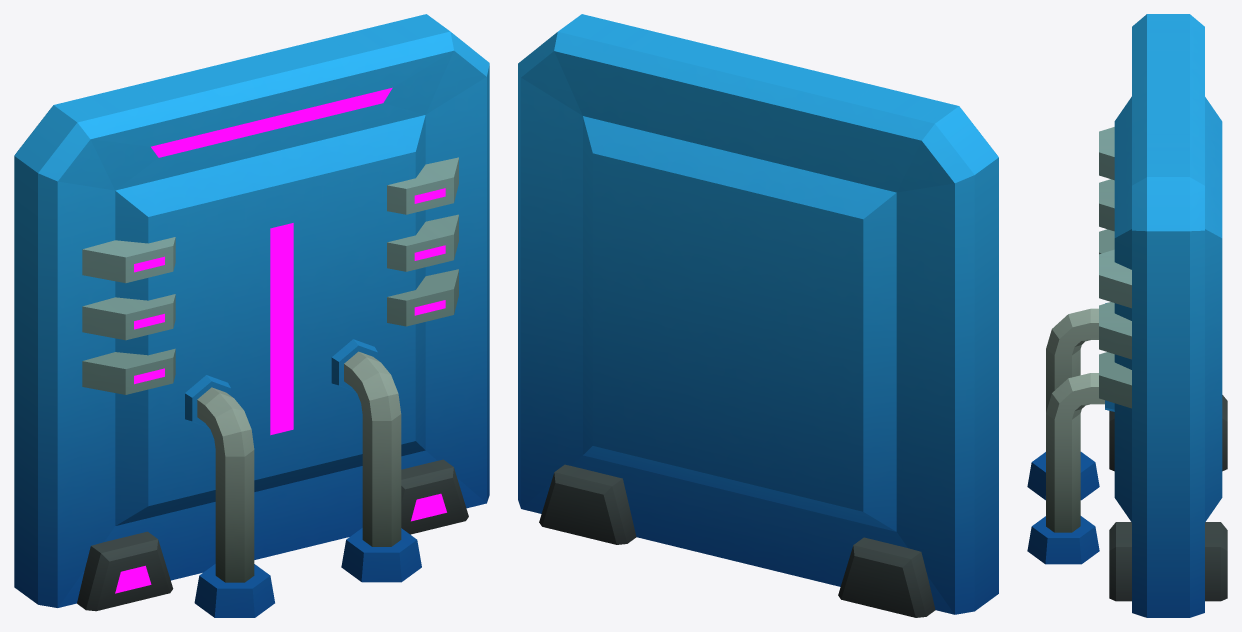
File: wall_004.fbx
3 views of the same model, side by side, from view 1: azimuth 30°, elevation 25°; view 2: azimuth 150°, elevation 25°; view 3: azimuth 270°, elevation 25° (orthographic). The views are drawn at different scales.
Visible parts, largest first — view 1: wall.004; view 2: wall.004; view 3: wall.004.
Boxes of the visible parts, x1=… form: wall.004: x1=14, y1=14, x2=489, y2=617; wall.004: x1=518, y1=14, x2=998, y2=617; wall.004: x1=1027, y1=14, x2=1227, y2=617.
Bounding box in the file's own units: 276 × 277 × 118.
